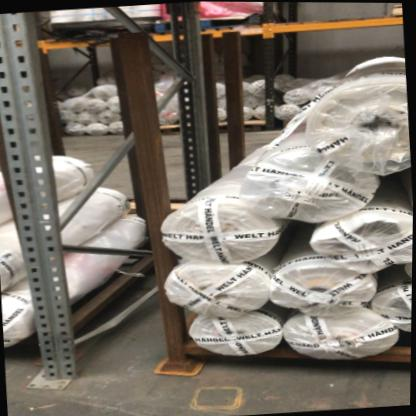vertical_damage: (13, 293, 91, 396)
